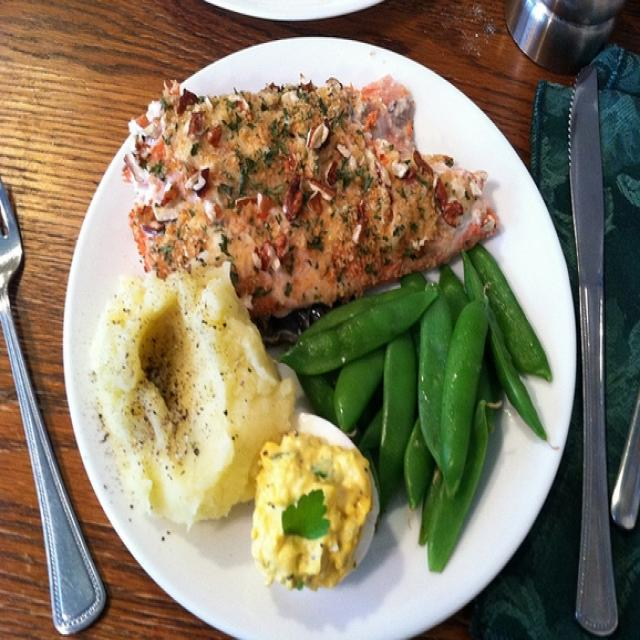熟制海鲜: (53, 40, 567, 594)
